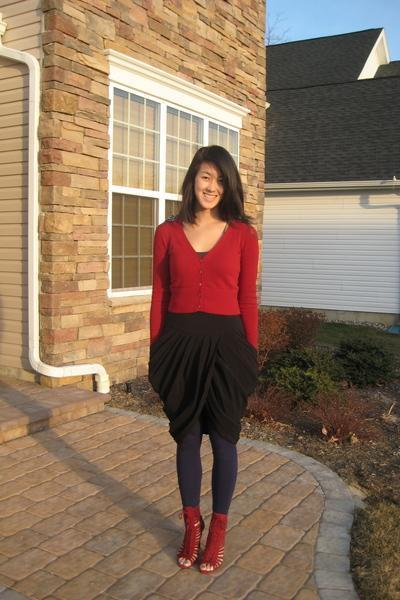shirt: (140, 219, 259, 347)
shoe: (176, 506, 226, 582)
skirt: (148, 311, 269, 439)
